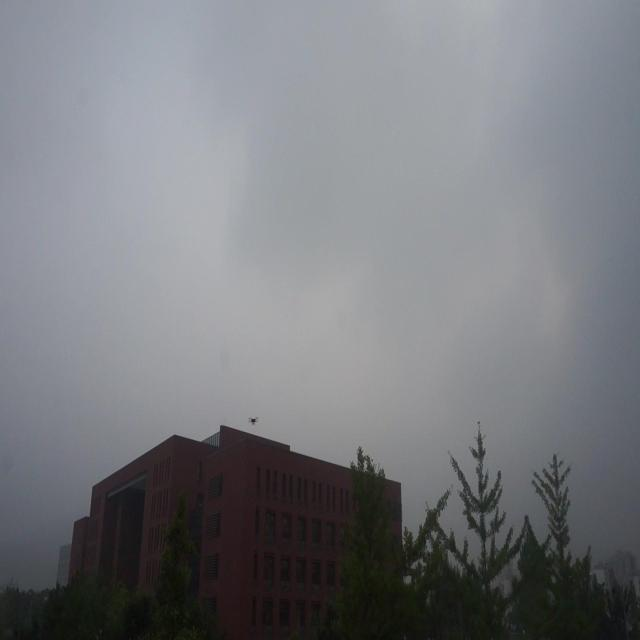drone: (248, 414, 258, 428)
